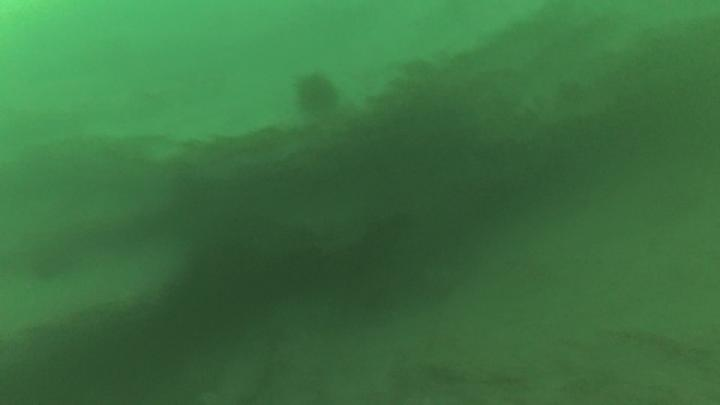echinus: (294, 70, 340, 121)
